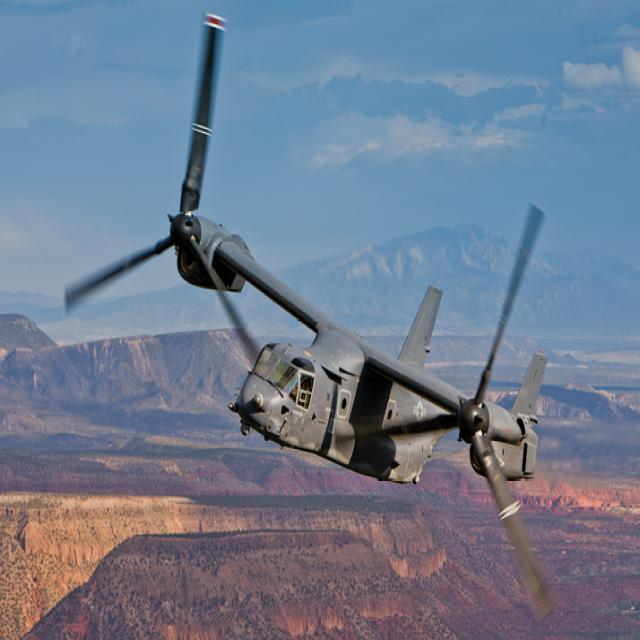helicopter: (60, 13, 570, 621)
